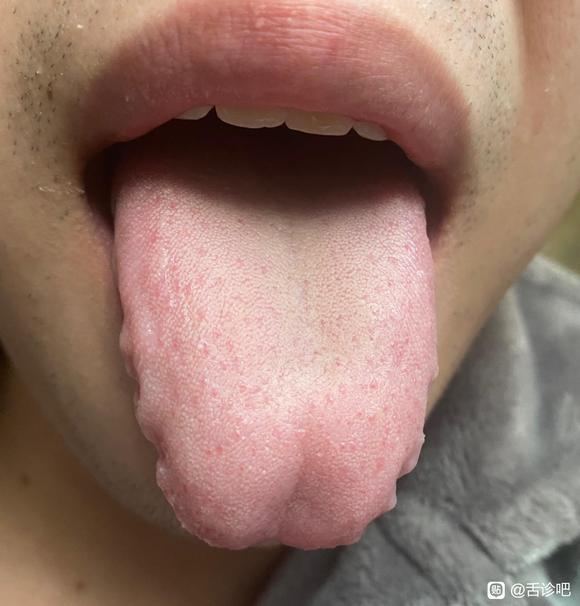baitaishe: (110, 118, 440, 552)
